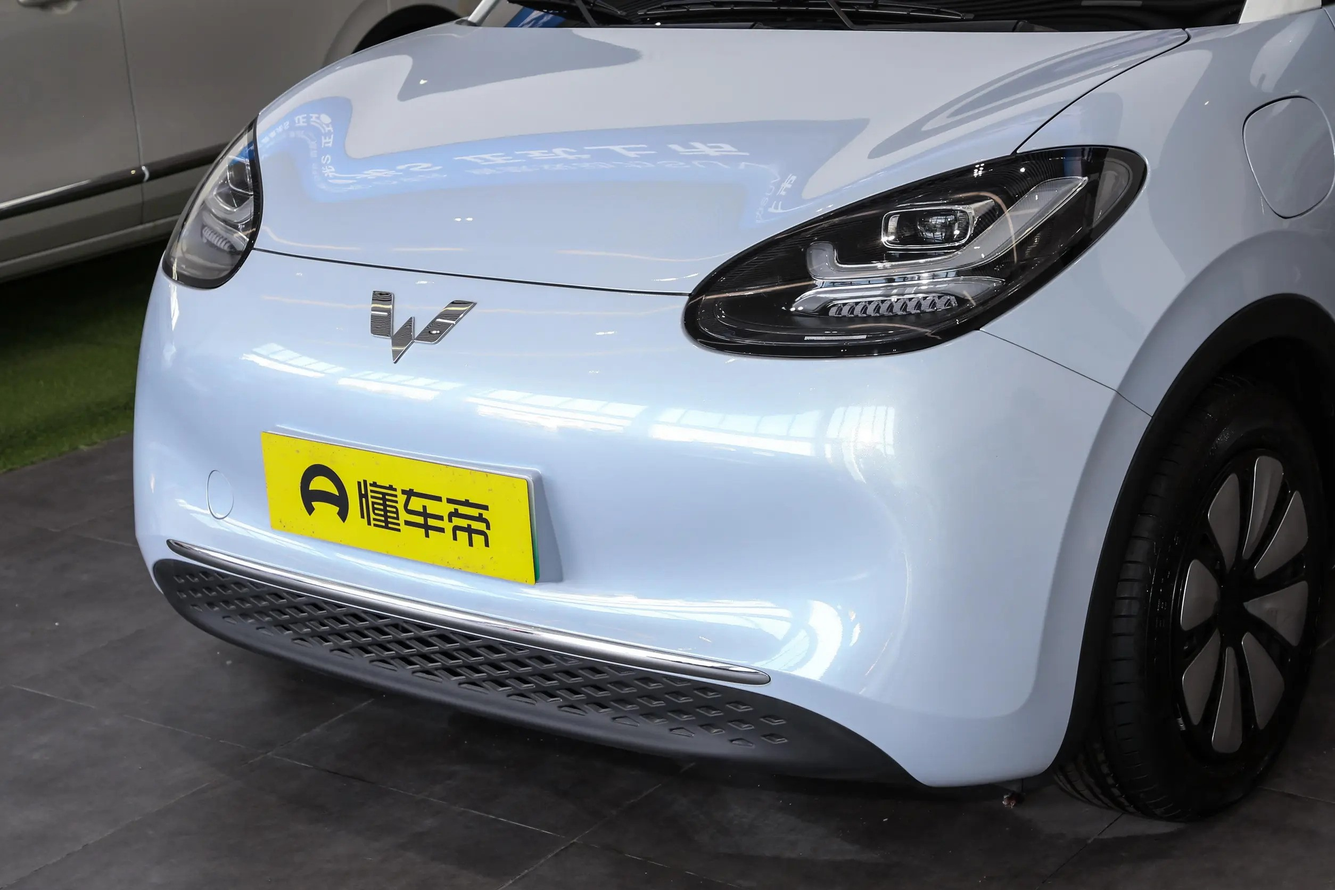SGMW: (370, 290, 476, 362)
